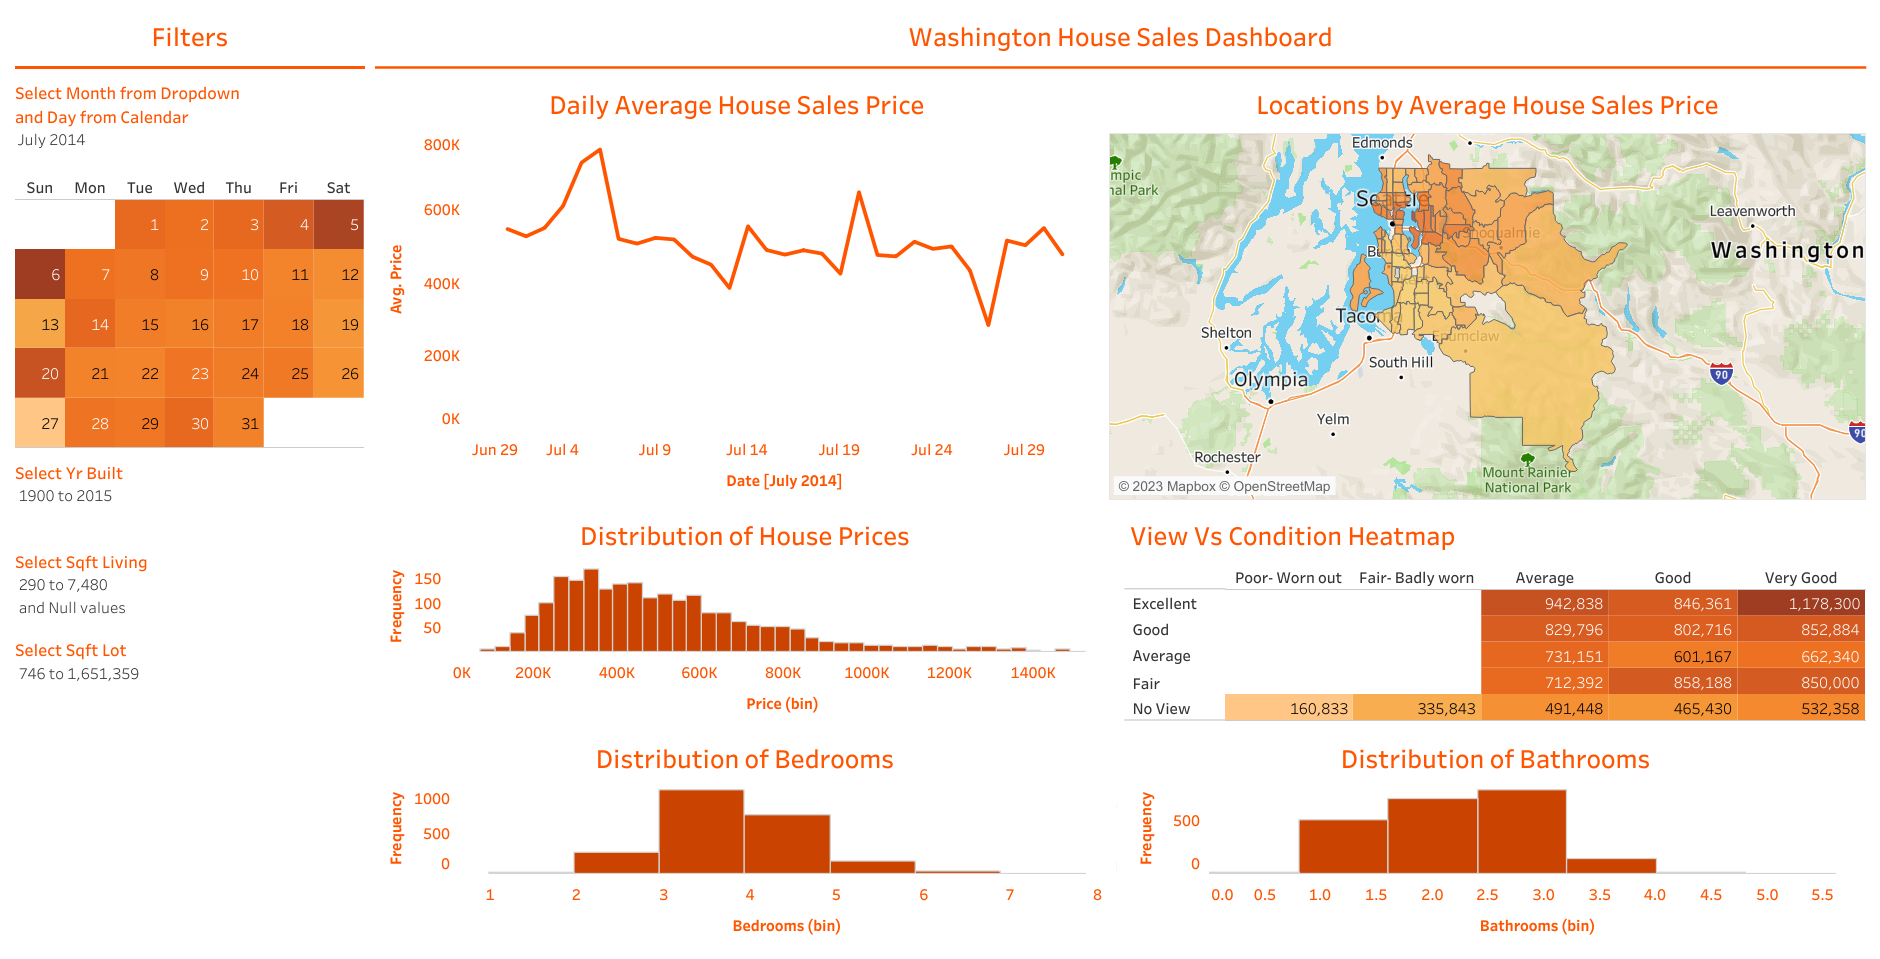

Layout of this report page (visuals, bound fields, positions):
{"tool":"tableau","page":{"name":"Washington House Sales Dashboard","canvas":[1000,1000],"units":"permille","ordinal":0},"visuals":[{"type":"text","box":[4.8,9.4,191.3,52.9]},{"type":"text","box":[196.1,9.4,799,52.9]},{"type":"blank","box":[4.8,62.3,191.3,11.8]},{"type":"blank","box":[196.1,62.3,799,11.8]},{"type":"filter","title":"Calendar","param":"[federated.1r259du12kirfi14bqumw1for146].[my:date:ok]","box":[4.8,74,191.3,103.4]},{"type":"worksheet","title":"Line Chart","mark":"Automatic","rows":["price"],"cols":["date"],"box":[196.1,74,395,452.4]},{"type":"worksheet","title":"Map","mark":"Automatic","box":[591.1,74,404,452.4]},{"type":"worksheet","title":"Calendar","mark":"Square","rows":["date"],"cols":["date"],"box":[4.8,177.4,191.3,267.9]},{"type":"filter","title":"Calendar","param":"[federated.1r259du12kirfi14bqumw1for146].[none:yr_built:qk]","box":[4.8,445.4,191.3,68.2]},{"type":"filter","title":"Calendar","param":"[federated.1r259du12kirfi14bqumw1for146].[none:sqft_living:qk]","box":[4.8,513.5,191.3,68.2]},{"type":"worksheet","title":"Hist House","mark":"Automatic","rows":["price"],"cols":["Price (bin)"],"box":[196.1,526.4,399.5,232.1]},{"type":"worksheet","title":"Heatmap","mark":"Square","rows":["view"],"cols":["condition"],"box":[595.7,526.4,399.5,232.1]},{"type":"filter","title":"Calendar","param":"[federated.1r259du12kirfi14bqumw1for146].[none:sqft_lot:qk]","box":[4.8,581.7,191.3,77.6]},{"type":"worksheet","title":"Hist Bedroom","mark":"Automatic","rows":["bedrooms"],"cols":["Bedrooms (bin)"],"box":[196.1,758.5,399.5,232.1]},{"type":"worksheet","title":"Hist Bathroom","mark":"Automatic","rows":["bathrooms"],"cols":["Bathrooms (bin)"],"box":[595.7,758.5,399.5,232.1]}]}

Visuals, with their boxes on the dashboard's canvas, which has no fixed pixel size, in thousandths of its width and height (x1, y1, x2, y2). These are canvas units, not pixel positions in the 1880x959 screenshot, which may show the page scaled, cropped or inside an application window:
text: [left=5, top=9, right=196, bottom=62]
text: [left=196, top=9, right=995, bottom=62]
blank: [left=5, top=62, right=196, bottom=74]
blank: [left=196, top=62, right=995, bottom=74]
"Calendar" filter: [left=5, top=74, right=196, bottom=177]
"Line Chart" worksheet: [left=196, top=74, right=591, bottom=526]
"Map" worksheet: [left=591, top=74, right=995, bottom=526]
"Calendar" worksheet (Square marks): [left=5, top=177, right=196, bottom=445]
"Calendar" filter: [left=5, top=445, right=196, bottom=514]
"Calendar" filter: [left=5, top=514, right=196, bottom=582]
"Hist House" worksheet: [left=196, top=526, right=596, bottom=758]
"Heatmap" worksheet (Square marks): [left=596, top=526, right=995, bottom=758]
"Calendar" filter: [left=5, top=582, right=196, bottom=659]
"Hist Bedroom" worksheet: [left=196, top=758, right=596, bottom=991]
"Hist Bathroom" worksheet: [left=596, top=758, right=995, bottom=991]
